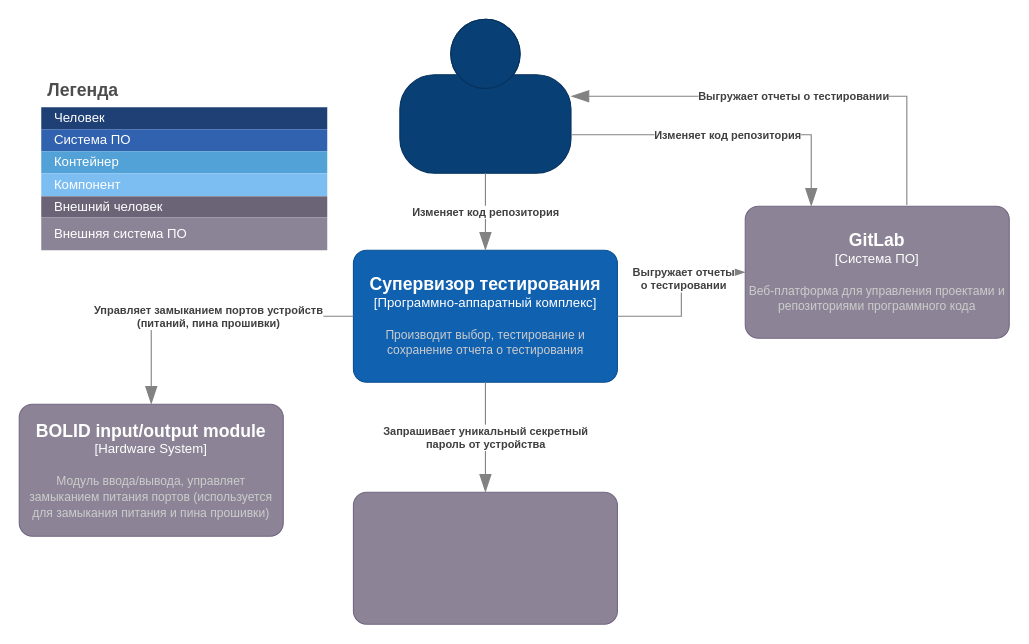
This 1029x644 diagram has some shape labels left out. The shapes that lost their labels are listed below. From the top down, each one's centre as x and y in pixels, then its label:
point (485, 95): Разработчик [Человек] Разработчик из команды TEDIX "Форт Телеком"
point (484, 557): Сервер подписей [Система ПО] Выдает пароли от устройств
